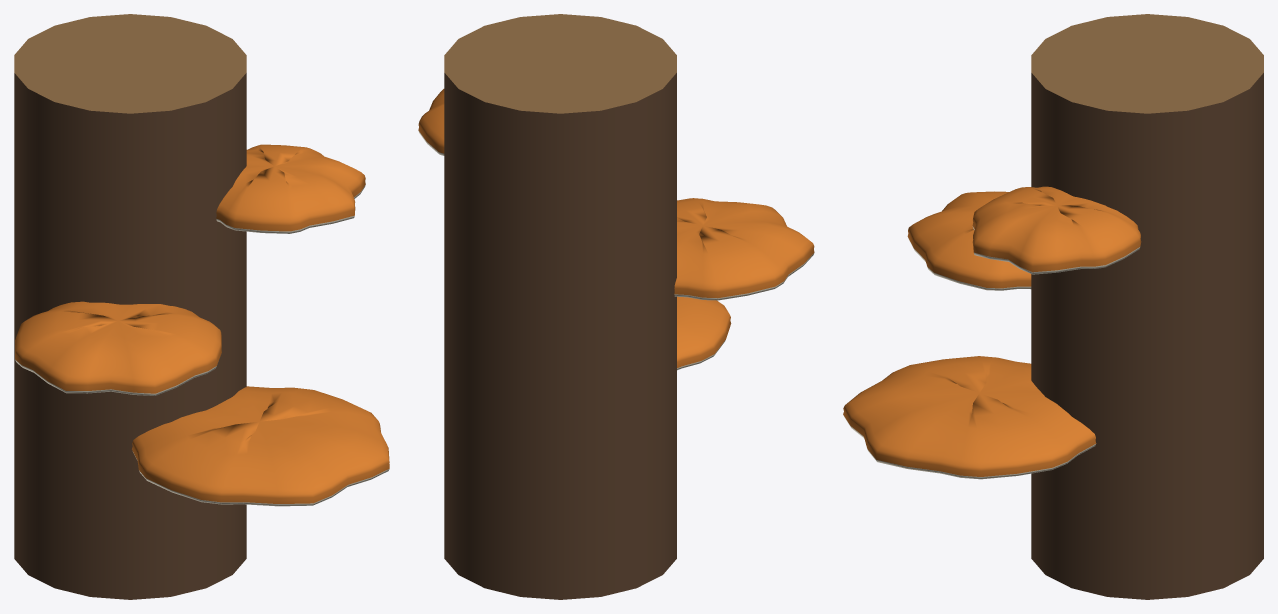
The model's file is sh_shelf_fungus.fbx.
The picture shows the model from 3 angles, left to right: view 1: azimuth 30°, elevation 25°; view 2: azimuth 150°, elevation 25°; view 3: azimuth 270°, elevation 25°; orthographic projection.
Parts seen in each view (by area): view 1: SH_Shelf_Fungus; view 2: SH_Shelf_Fungus; view 3: SH_Shelf_Fungus.
Boxes of the visible parts, x1,y1,x2,y2 form: SH_Shelf_Fungus: (14, 14, 389, 599); SH_Shelf_Fungus: (418, 14, 814, 599); SH_Shelf_Fungus: (843, 14, 1263, 599).
Bounding box in the file's own units: 18.51 × 25 × 19.61.
